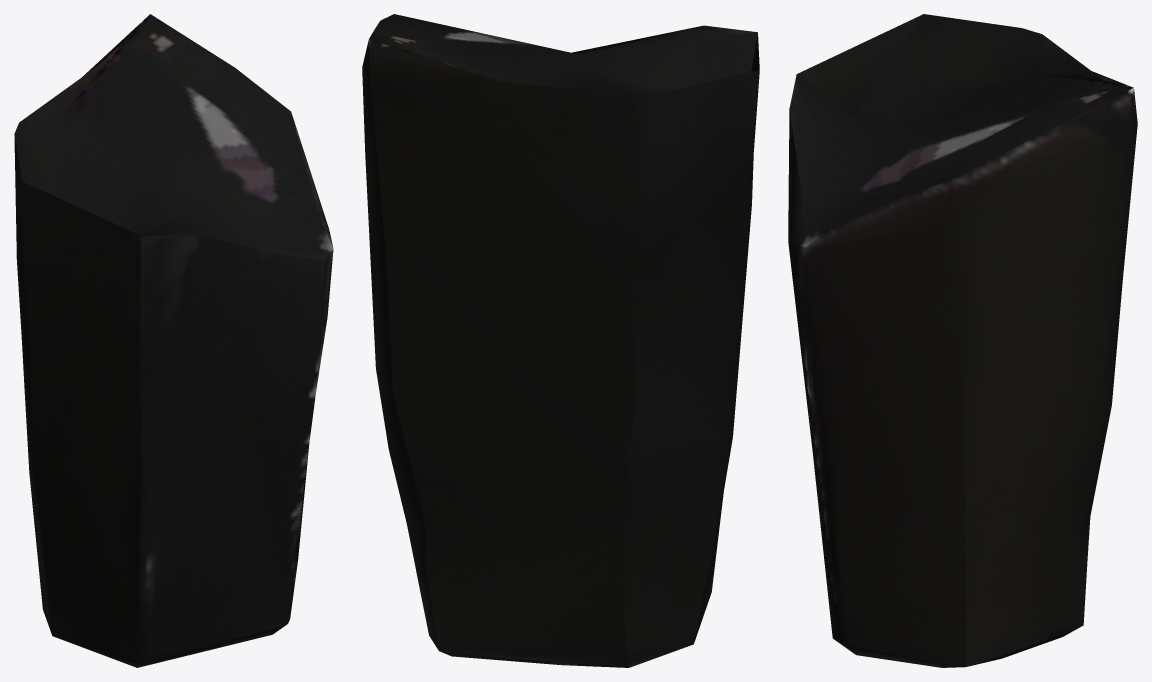
Rendered from pierna-izquierda-ca.obj.
3 views of the same model, side by side, from view 1: azimuth 30°, elevation 25°; view 2: azimuth 150°, elevation 25°; view 3: azimuth 270°, elevation 25° (orthographic). The views are drawn at different scales.
Visible parts, largest first — view 1: model.061; view 2: model.061; view 3: model.061.
Boxes of the visible parts, x1,y1,x2,y2 form: model.061: (14, 14, 333, 667); model.061: (362, 14, 759, 667); model.061: (788, 14, 1137, 667).
Bounding box in the file's own units: 0.046 × 0.0799 × 0.0441.
1 material, 1 textured.
